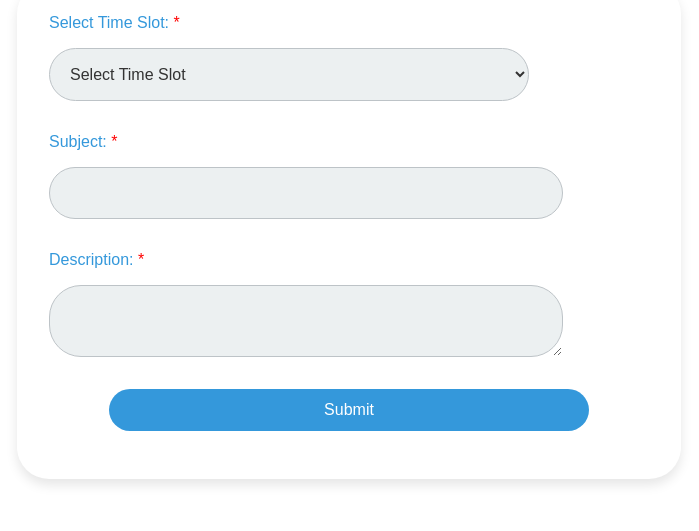
Test: GuestScheduleCall › handles API error during form submission
Select "Morning(9am-12pm)" in the dropdown labelled "Select Time Slot: *": (289, 74) top-left (49, 48), bottom-right (529, 101)
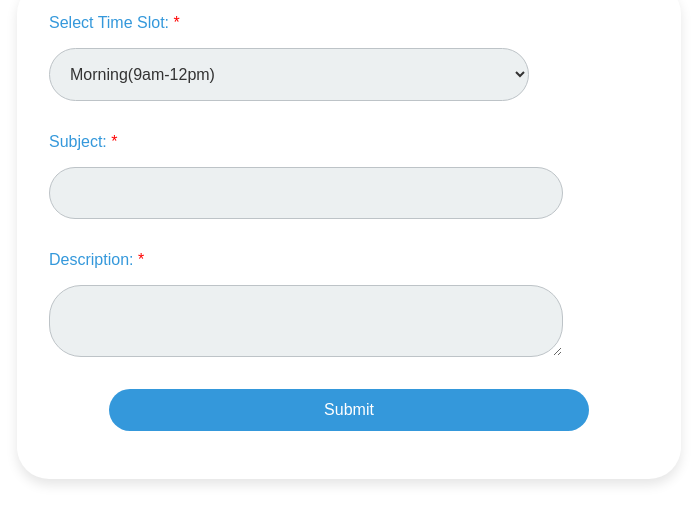
In the field labelled "Subject: *": (306, 193) top-left (49, 167), bottom-right (563, 219), type "Test Subject"
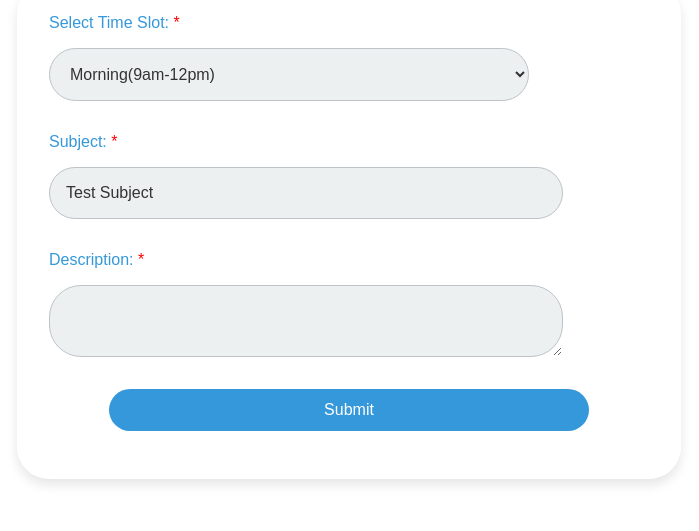
In the text box labelled "Description: *": (306, 321) top-left (49, 285), bottom-right (563, 357), type "Test Description"
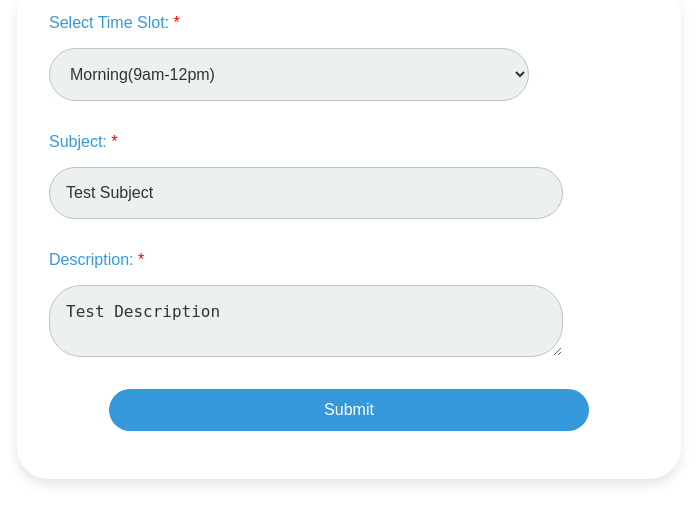
Click the button "Submit": (349, 410) top-left (109, 389), bottom-right (589, 431)
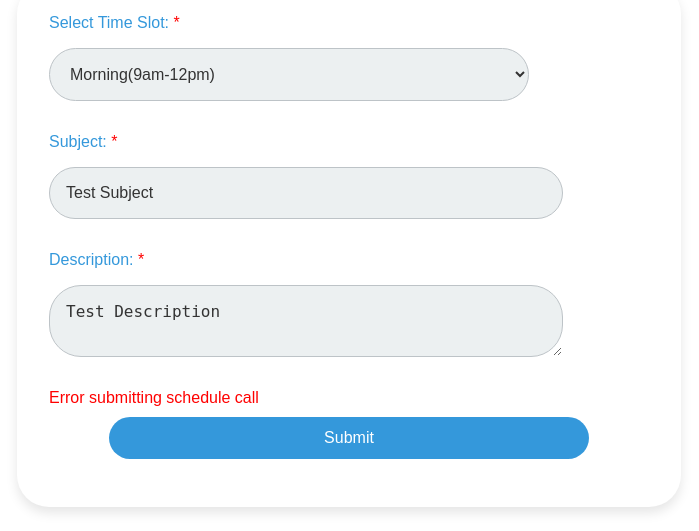
Now the text "Error submitting schedule call" is shown, box top-left (49, 389), bottom-right (259, 406)
